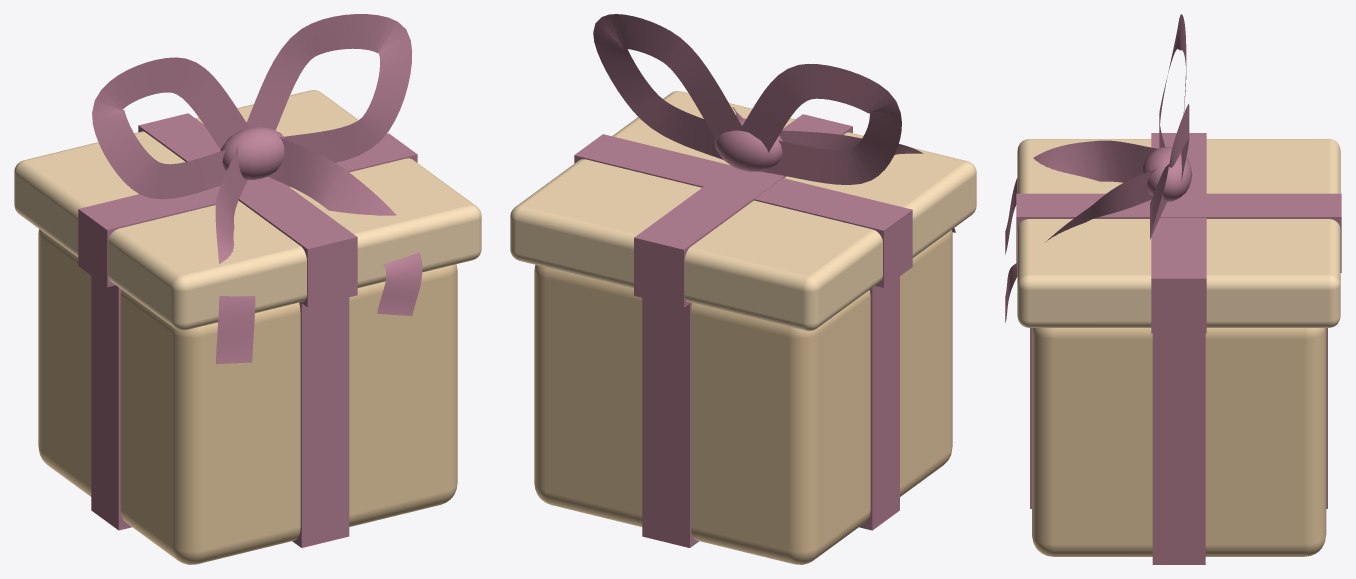
The model's file is gift.glb.
3 views of the same model, side by side, from view 1: azimuth 30°, elevation 25°; view 2: azimuth 150°, elevation 25°; view 3: azimuth 270°, elevation 25° (orthographic). The views are drawn at different scales.
Visible parts, largest first — view 1: GiftBox, GiftLid, WrapFrontBack, BowLeft, BowRight, LidRibbonZ, WrapSides, RibbonTailRight, LidRibbonX, RibbonTailLeft, BowKnot; view 2: GiftBox, GiftLid, WrapFrontBack, BowLeft, BowRight, LidRibbonX, LidRibbonZ, WrapSides, BowKnot, RibbonTailLeft; view 3: GiftBox, GiftLid, WrapSides, LidRibbonX, LidRibbonZ, RibbonTailLeft, RibbonTailRight, BowKnot, BowRight, WrapFrontBack, BowLeft.
Part boxes in pixels (x1,y1,x2,y2): GiftBox: [38, 229, 457, 564]; GiftLid: [14, 90, 481, 330]; WrapFrontBack: [292, 297, 349, 547]; BowLeft: [92, 57, 249, 199]; BowRight: [246, 14, 412, 162]; LidRibbonZ: [138, 113, 357, 307]; WrapSides: [91, 276, 131, 530]; RibbonTailRight: [268, 136, 422, 316]; LidRibbonX: [78, 133, 417, 287]; RibbonTailLeft: [215, 145, 255, 364]; BowKnot: [220, 127, 284, 179]; GiftBox: [534, 230, 952, 564]; GiftLid: [510, 91, 976, 330]; WrapFrontBack: [642, 298, 698, 547]; BowLeft: [742, 64, 901, 184]; BowRight: [593, 14, 745, 159]; LidRibbonX: [574, 134, 912, 287]; LidRibbonZ: [634, 114, 852, 307]; WrapSides: [859, 276, 899, 530]; BowKnot: [714, 118, 782, 171]; RibbonTailLeft: [779, 130, 955, 232]; GiftBox: [1032, 328, 1326, 556]; GiftLid: [1017, 139, 1340, 327]; WrapSides: [1152, 333, 1205, 564]; LidRibbonX: [1151, 133, 1206, 333]; LidRibbonZ: [1016, 193, 1341, 272]; RibbonTailLeft: [1005, 140, 1157, 254]; RibbonTailRight: [1005, 169, 1156, 322]; BowKnot: [1141, 147, 1192, 201]; BowRight: [1150, 104, 1189, 239]; WrapFrontBack: [1030, 328, 1327, 508]; BowLeft: [1159, 14, 1186, 153].
Bounding box in the file's own units: 0.7221 × 0.9785 × 0.697.
